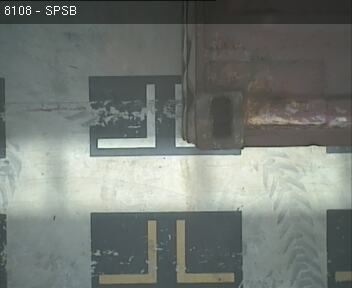groundmarker_1: (98, 219, 233, 283), (95, 83, 195, 148)
